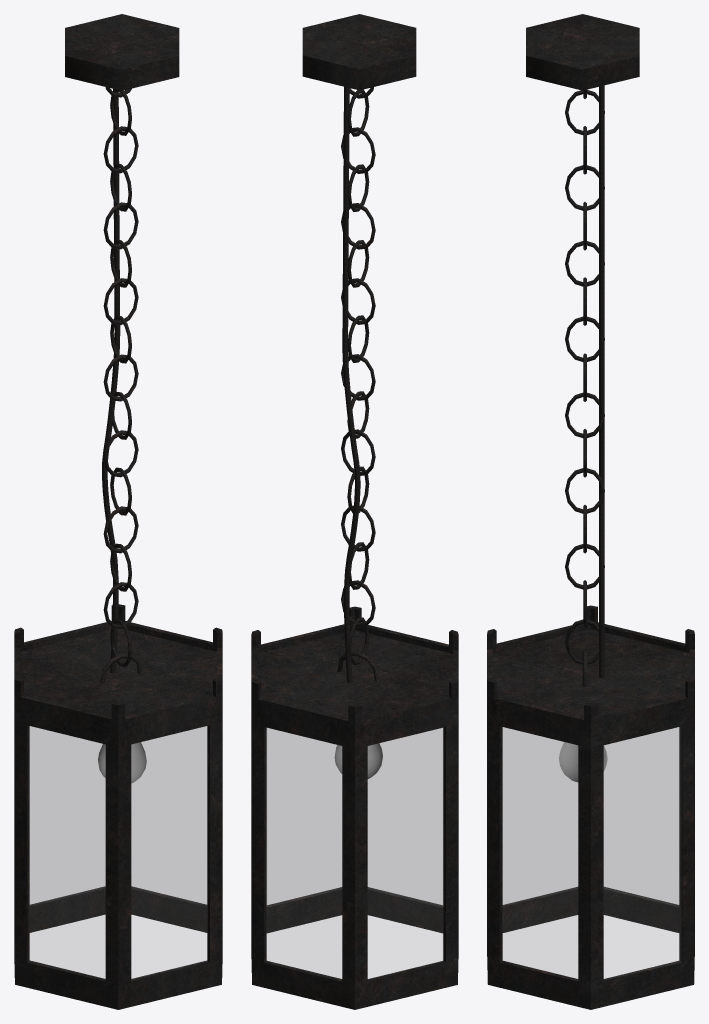
File: Ceiling lamp.FBX
3 renders of one model, left to right at view 1: azimuth 30°, elevation 25°; view 2: azimuth 150°, elevation 25°; view 3: azimuth 270°, elevation 25°, orthographic.
Visible parts, largest first — view 1: Ceiling lamp; view 2: Ceiling lamp; view 3: Ceiling lamp.
Boxes of the visible parts, x1=… form: Ceiling lamp: x1=14, y1=14, x2=222, y2=1009; Ceiling lamp: x1=251, y1=14, x2=458, y2=1009; Ceiling lamp: x1=487, y1=14, x2=694, y2=1009.
Size of the model in its own units: 42 by 179 by 36.64.
Materials: 3 (1 with a texture image).
